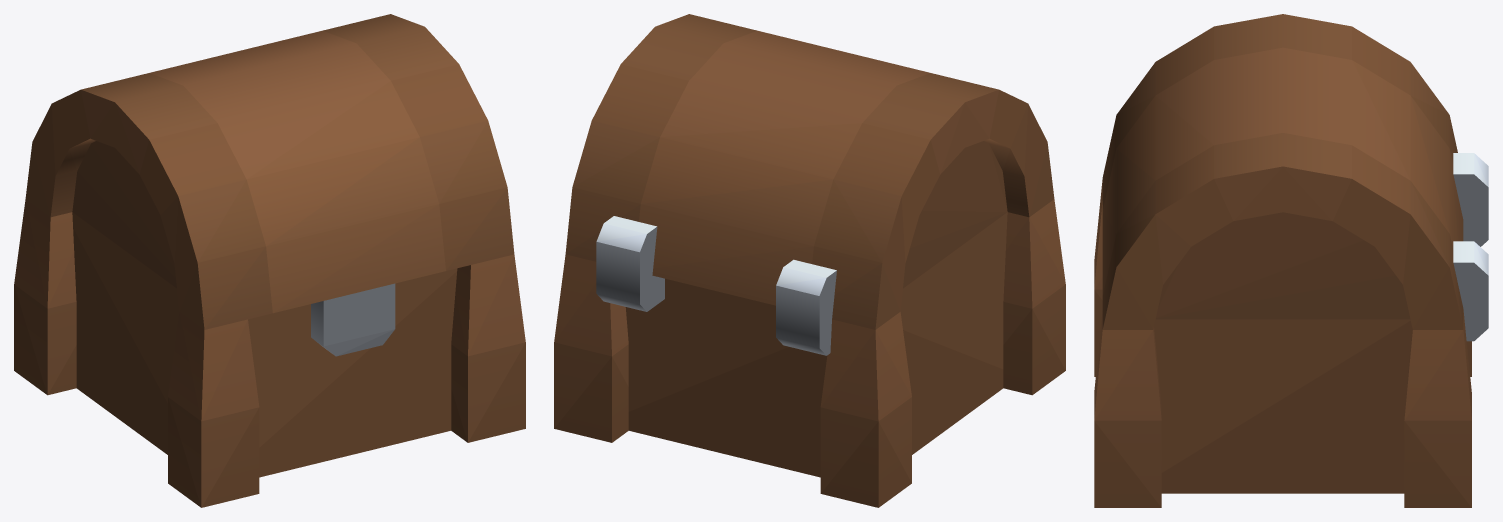
File: kenney_survival_chest.glb
3 renders of one model, left to right at view 1: azimuth 30°, elevation 25°; view 2: azimuth 150°, elevation 25°; view 3: azimuth 270°, elevation 25°, orthographic.
Parts seen in each view (by area): view 1: wood, metal; view 2: wood, metal, cloth; view 3: wood, metal, cloth.
Part boxes in pixels (<box>): wood: <box>14,14,525,507</box>; metal: <box>311,283,395,356</box>; wood: <box>554,14,1065,507</box>; metal: <box>596,227,836,355</box>; cloth: <box>596,216,836,295</box>; wood: <box>1094,14,1471,507</box>; metal: <box>1453,174,1488,341</box>; cloth: <box>1453,153,1488,275</box>.
Bounding box in the file's own units: 0.2604 × 0.2572 × 0.272.
